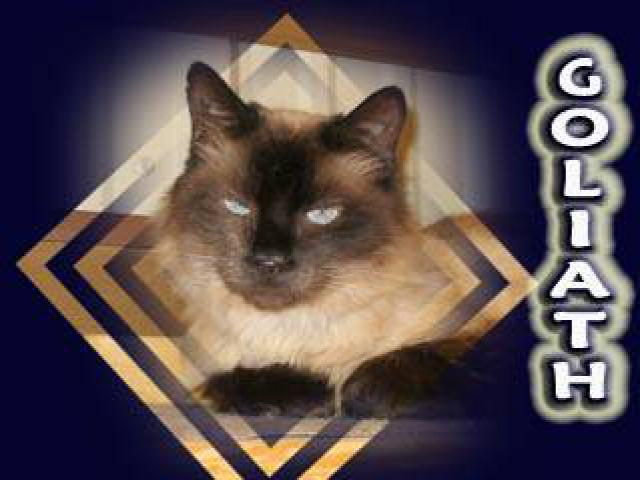cat: (158, 61, 439, 423)
